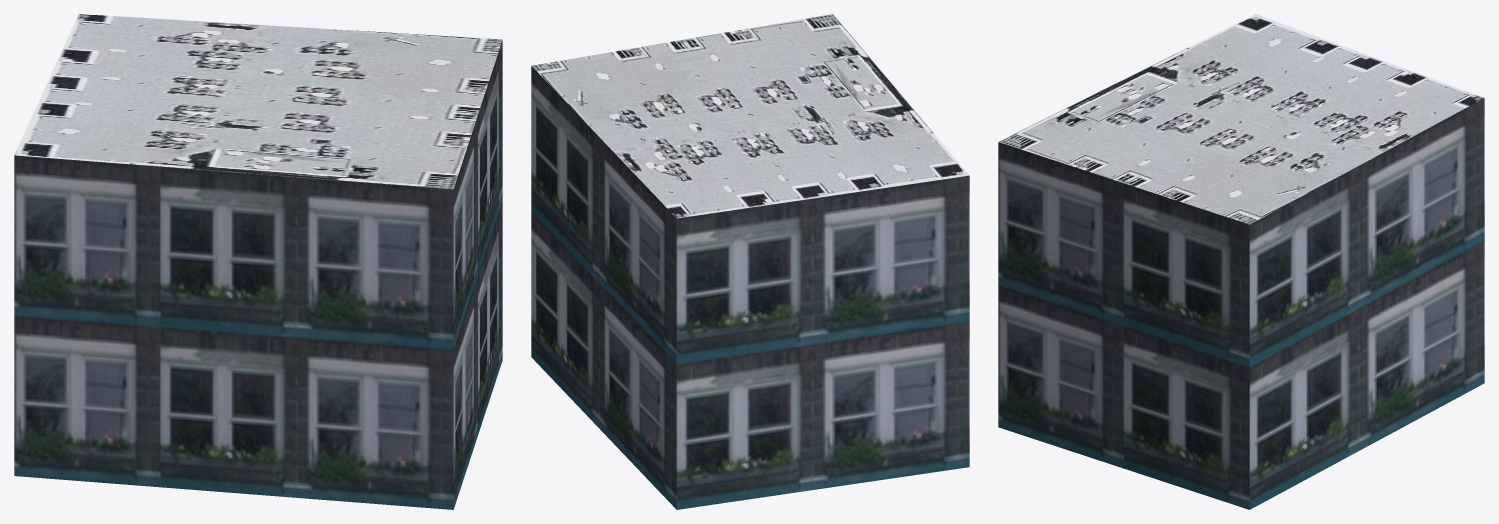
Rendered from ResTex__495.fbx.
The picture shows the model from 3 angles, left to right: view 1: azimuth 30°, elevation 25°; view 2: azimuth 150°, elevation 25°; view 3: azimuth 270°, elevation 25°; orthographic projection. The views are drawn at different scales.
Visible parts, largest first — view 1: CityEngineMaterial_11_m, CityEngineMaterial_8_m; view 2: CityEngineMaterial_11_m, CityEngineMaterial_8_m; view 3: CityEngineMaterial_11_m, CityEngineMaterial_8_m.
Part boxes in pixels (x1,y1,x2,y2): CityEngineMaterial_11_m: [14, 40, 502, 509]; CityEngineMaterial_8_m: [14, 14, 502, 189]; CityEngineMaterial_11_m: [531, 66, 969, 509]; CityEngineMaterial_8_m: [532, 14, 968, 218]; CityEngineMaterial_11_m: [998, 98, 1484, 509]; CityEngineMaterial_8_m: [998, 14, 1484, 224].
Size of the model in its own units: 9.5 by 6 by 9.27.
Materials: 2 (2 with a texture image).
